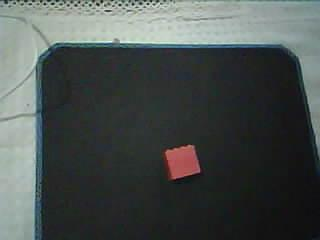lego: (161, 143, 202, 181)
